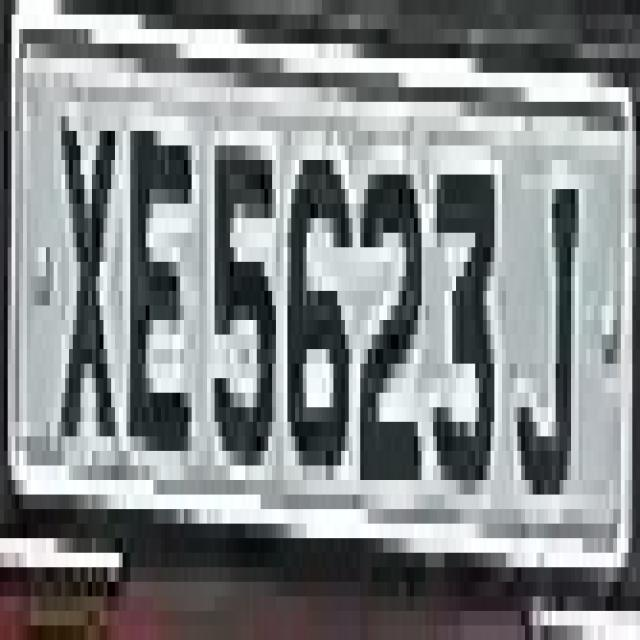2: (360, 116, 433, 553)
3: (425, 131, 502, 524)
5: (199, 101, 284, 524)
6: (280, 87, 352, 509)
E: (130, 87, 200, 480)
J: (510, 131, 586, 538)
X: (54, 102, 134, 480)
